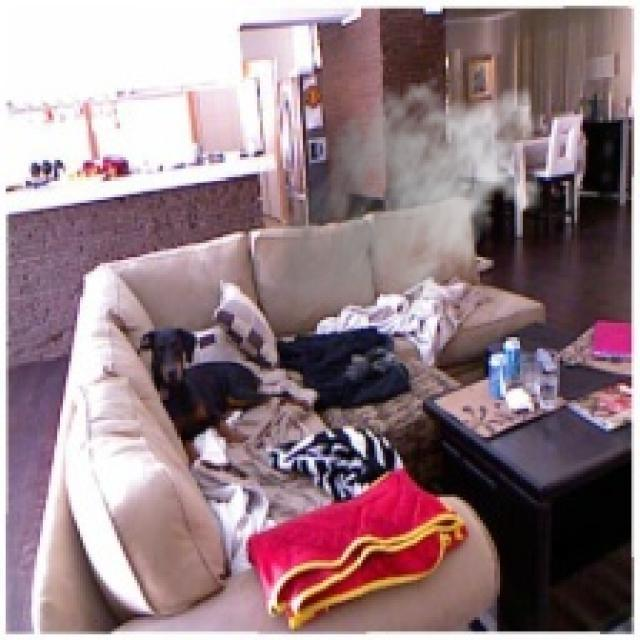Smoke: (274, 71, 543, 346)
